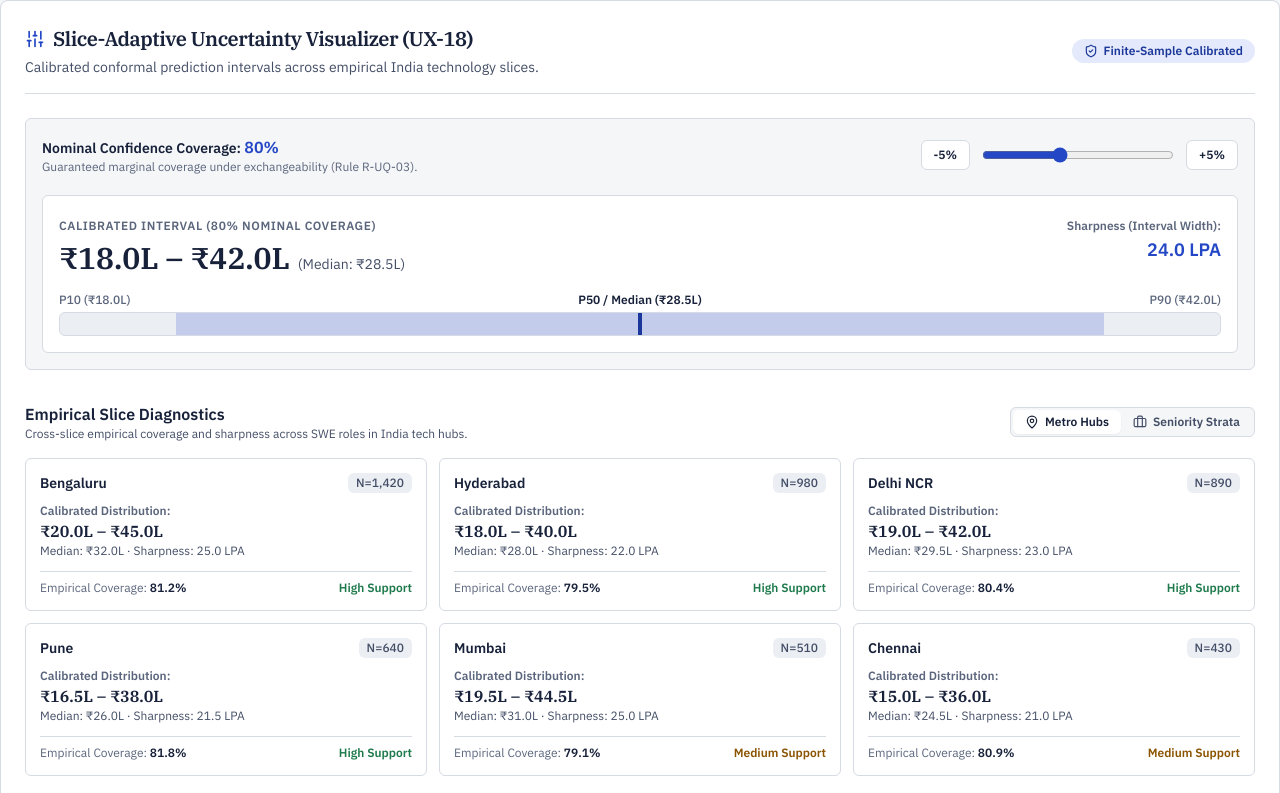
Test: SliceUncertaintyVisualizer (UX-18, Task T21.02) › switches tabs between Metro Hubs and Seniority Strata
Expected: the element with test id "slice-card-blr" is shown, [25, 458, 427, 611]
Expected: the element with test id "slice-card-hyd" is shown, [439, 458, 841, 611]
# Click Seniority tab
Click the tab "Seniority Strata" at x=1186, y=422, box [1121, 410, 1252, 434]
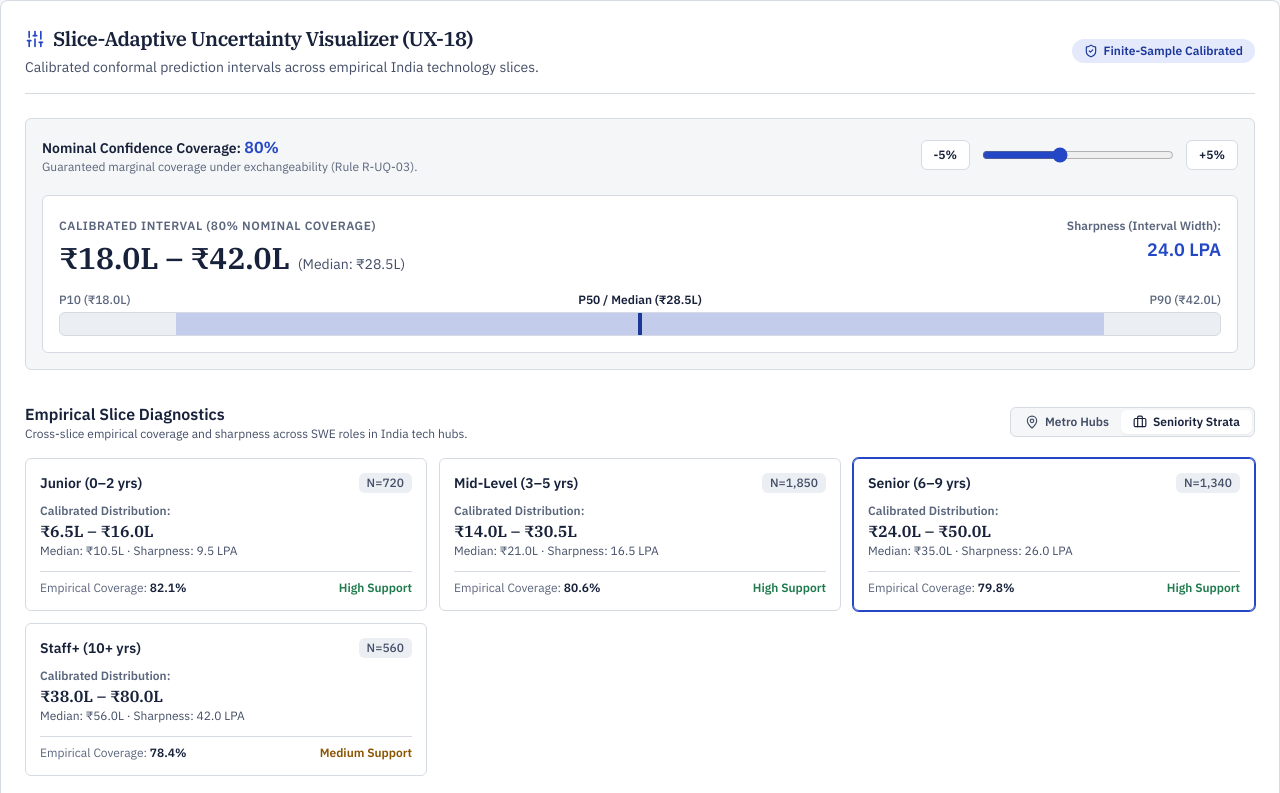
Expected: the element with test id "slice-card-jr" is shown, [25, 458, 427, 611]
Expected: the element with test id "slice-card-mid" is shown, [439, 458, 841, 611]
Expected: the text "Junior (0–2 yrs)" is shown, [40, 473, 142, 493]
